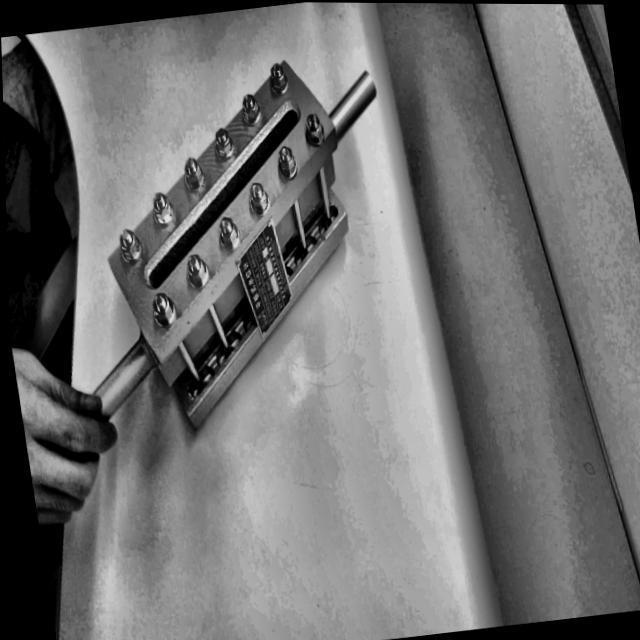ShuiWeiQi_12: (52, 19, 430, 420)
